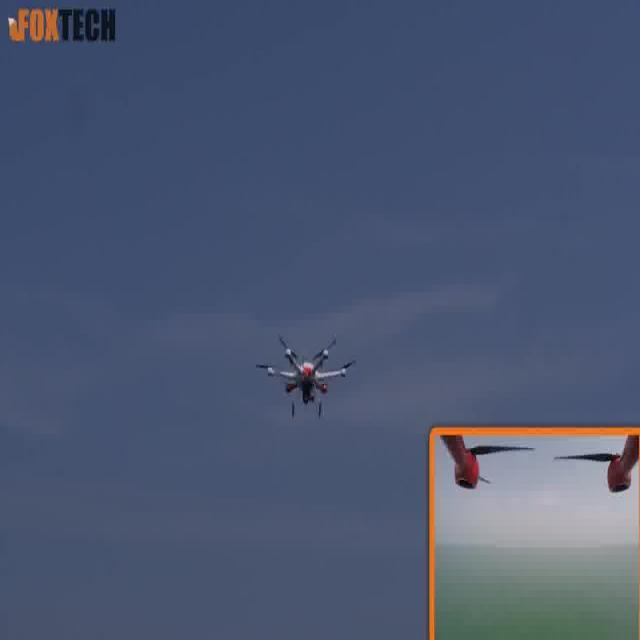drone: (255, 342, 362, 427)
